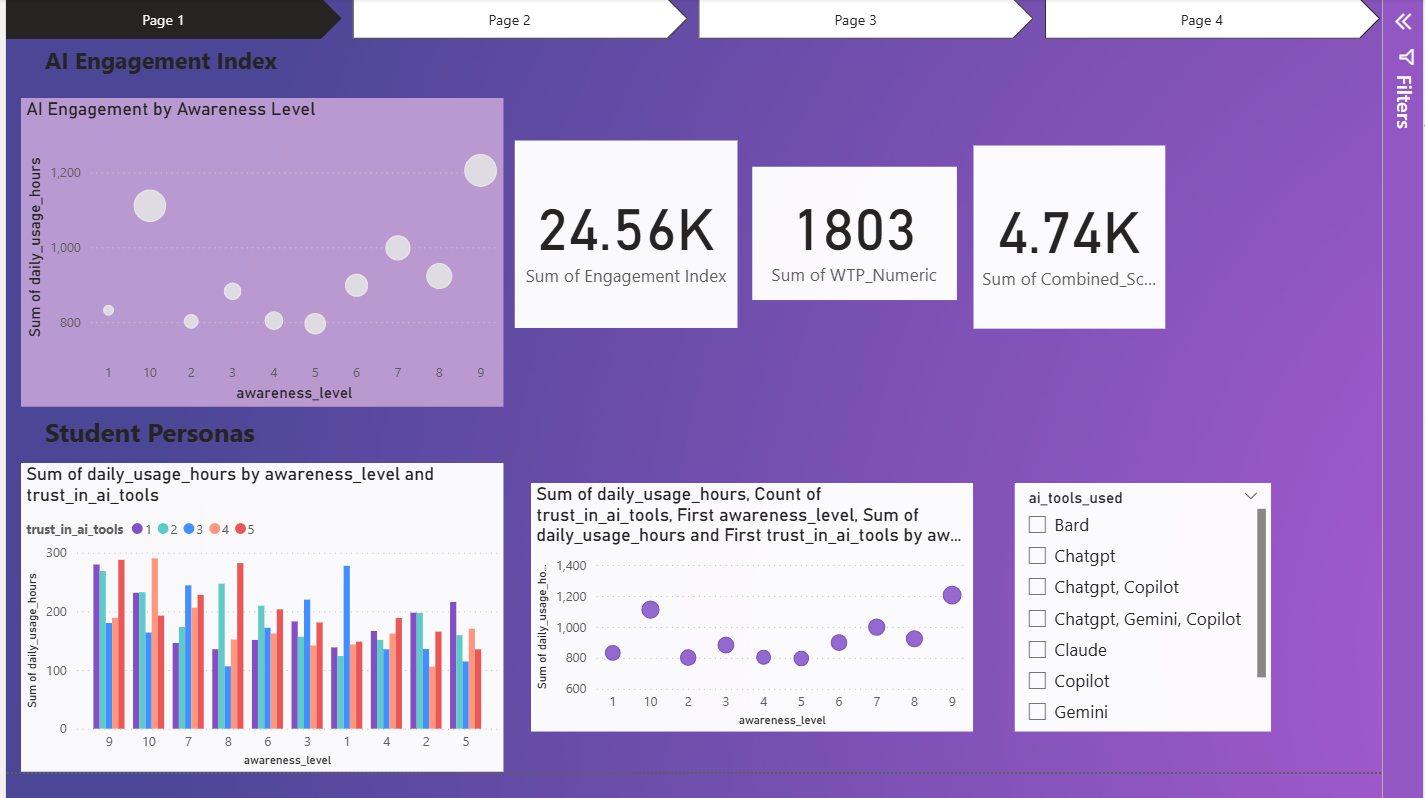

The page's visual inventory and layout, read from the dashboard file:
{"tool":"powerbi","page":{"name":"Page 1","canvas":[1280,720],"ordinal":0},"visuals":[{"type":"card","fields":{"Values":["Sum(Data.Engagement Index)"]},"box":[472.9,132.9,207.1,174.3],"z":0},{"type":"scatterChart","title":"AI Engagement by Awareness Level","fields":{"X":["Data.awareness_level"],"Y":["Sum(Data.daily_usage_hours)"],"Size":["Sum(Data.Engagement Index)"]},"box":[14.3,92.9,448.6,287.1],"z":1000},{"type":"textbox","box":[31.4,38.6,331.4,54.3],"z":2000},{"type":"card","fields":{"Values":["Sum(Data.WTP_Numeric)"]},"box":[694.3,157.1,190,124.3],"z":3000},{"type":"card","fields":{"Values":["Sum(Data.Combined_Score)"]},"box":[900,137.1,178.6,170],"z":4000},{"type":"clusteredColumnChart","fields":{"Category":["Data.awareness_level"],"Y":["Sum(Data.daily_usage_hours)"],"Series":["Data.trust_in_ai_tools"]},"box":[14.3,432.9,448.6,287.1],"z":5000},{"type":"scatterChart","fields":{"X":["Data.awareness_level"],"Y":["Sum(Data.daily_usage_hours)"],"Size":["CountNonNull(Data.trust_in_ai_tools)"]},"box":[488.6,451.4,411.4,231.4],"z":6000},{"type":"slicer","fields":{"Values":["Data.ai_tools_used"]},"box":[938.6,451.4,238.6,231.4],"z":7000},{"type":"textbox","box":[31.4,382.9,207.1,50],"z":8000},{"type":"pageNavigator","box":[0,0,1280,38.6],"z":9000}]}

Visuals, with their boxes on the page's 1280x720 design canvas (x1, y1, x2, y2). These are canvas units, not pixel positions in the 1425x798 screenshot, which may show the page scaled, cropped or inside an application window:
card - Sum(Data.Engagement Index): [473, 133, 680, 307]
"AI Engagement by Awareness Level" scatterChart: [14, 93, 463, 380]
textbox: [31, 39, 363, 93]
card - Sum(Data.WTP_Numeric): [694, 157, 884, 281]
card - Sum(Data.Combined_Score): [900, 137, 1079, 307]
clusteredColumnChart - Data.awareness_level x Sum(Data.daily_usage_hours): [14, 433, 463, 720]
scatterChart - Data.awareness_level x Sum(Data.daily_usage_hours): [489, 451, 900, 683]
slicer - Data.ai_tools_used: [939, 451, 1177, 683]
textbox: [31, 383, 238, 433]
pageNavigator: [0, 0, 1280, 39]
